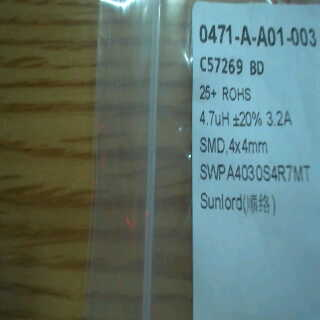4.7uH: (194, 109, 233, 130)
